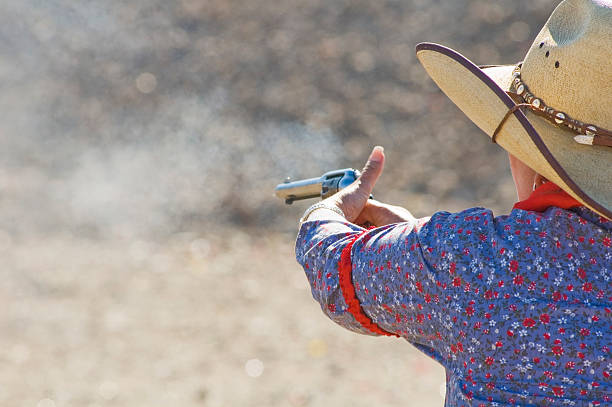gun: (275, 168, 374, 207)
